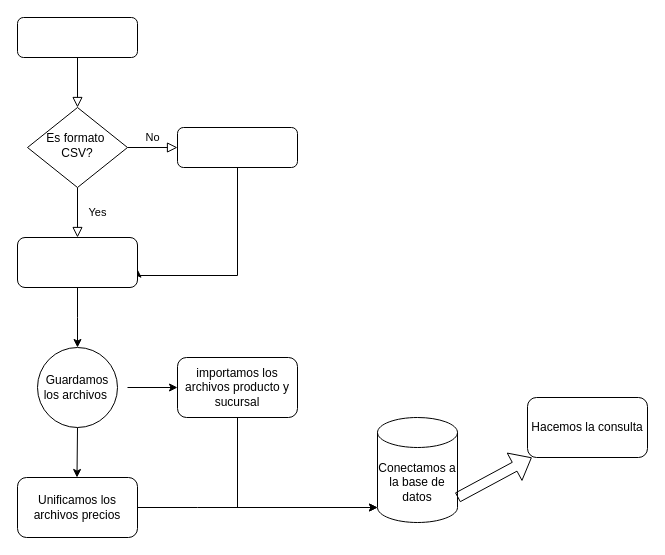
The diagram is 665 pixels wide and 555 high, and some of its shapes have lost their labels. Here are the shapes that lost their labels. From the top down, the box of each, then its label:
(16, 16, 138, 58): Visualizacion de Datos
(176, 126, 298, 168): Convertir a CSV
(16, 236, 138, 288): Visualización de los Datos
